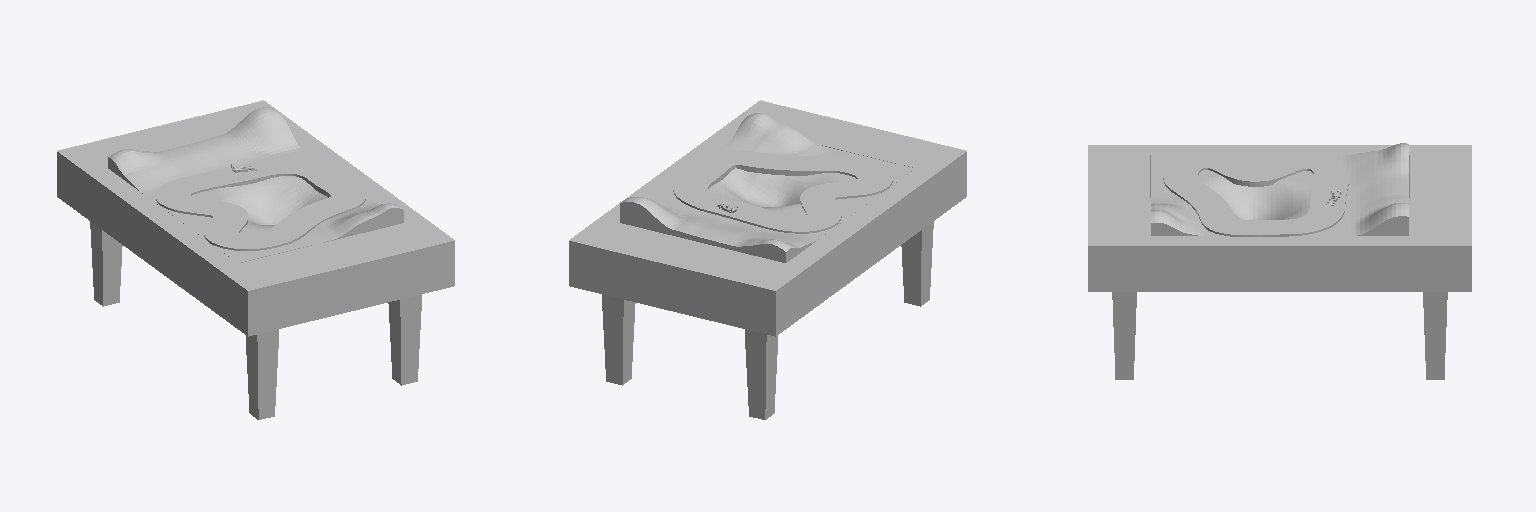
Rendered from NewestTisch5.obj.
3 views of the same model, side by side, from view 1: azimuth 30°, elevation 25°; view 2: azimuth 150°, elevation 25°; view 3: azimuth 270°, elevation 25° (orthographic).
Visible parts, largest first — view 1: Tischplatte_wood_table_001, Landschaft_aerial_grass_rock, off, Bein1_wood_table_001, Bein4_wood_table_001.003, Bein3_wood_table_001.002; view 2: Tischplatte_wood_table_001, Landschaft_aerial_grass_rock, off, Bein2_wood_table_001.001, Bein3_wood_table_001.002, Bein4_wood_table_001.003; view 3: Tischplatte_wood_table_001, Landschaft_aerial_grass_rock, off, Bein1_wood_table_001, Bein2_wood_table_001.001.
Part boxes in pixels (bbox=[...]): Tischplatte_wood_table_001: bbox=[57, 100, 454, 336]; Landschaft_aerial_grass_rock: bbox=[108, 107, 403, 262]; off: bbox=[156, 159, 365, 250]; Bein1_wood_table_001: bbox=[388, 294, 421, 385]; Bein4_wood_table_001.003: bbox=[246, 329, 278, 419]; Bein3_wood_table_001.002: bbox=[90, 221, 122, 306]; Tischplatte_wood_table_001: bbox=[569, 100, 966, 336]; Landschaft_aerial_grass_rock: bbox=[620, 113, 915, 262]; off: bbox=[673, 150, 892, 233]; Bein2_wood_table_001.001: bbox=[602, 294, 635, 385]; Bein3_wood_table_001.002: bbox=[745, 329, 777, 419]; Bein4_wood_table_001.003: bbox=[901, 221, 933, 306]; Tischplatte_wood_table_001: bbox=[1088, 145, 1471, 291]; Landschaft_aerial_grass_rock: bbox=[1151, 143, 1408, 235]; off: bbox=[1163, 153, 1348, 236]; Bein1_wood_table_001: bbox=[1112, 292, 1136, 379]; Bein2_wood_table_001.001: bbox=[1423, 292, 1447, 379].
Bounding box in the file's own units: 5 × 3.91 × 8.